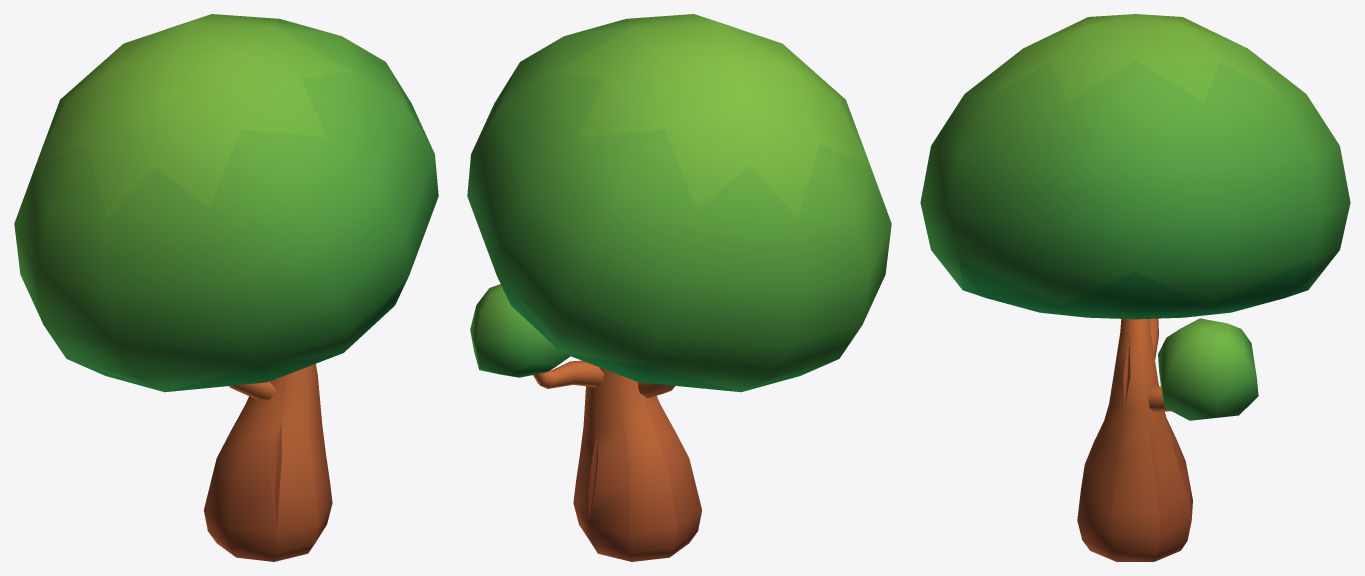
File: Tree_1_A_Color1.glb
3 views of the same model, side by side, from view 1: azimuth 30°, elevation 25°; view 2: azimuth 150°, elevation 25°; view 3: azimuth 270°, elevation 25° (orthographic). The views are drawn at different scales.
Visible parts, largest first — view 1: Tree_1_A_Color1; view 2: Tree_1_A_Color1; view 3: Tree_1_A_Color1.
Part boxes in pixels (<box>): Tree_1_A_Color1: <box>14,14,438,561</box>; Tree_1_A_Color1: <box>467,14,891,561</box>; Tree_1_A_Color1: <box>920,14,1350,561</box>.
Size of the model in its own units: 3.18 by 4.16 by 3.25.
1 material, 1 textured.
